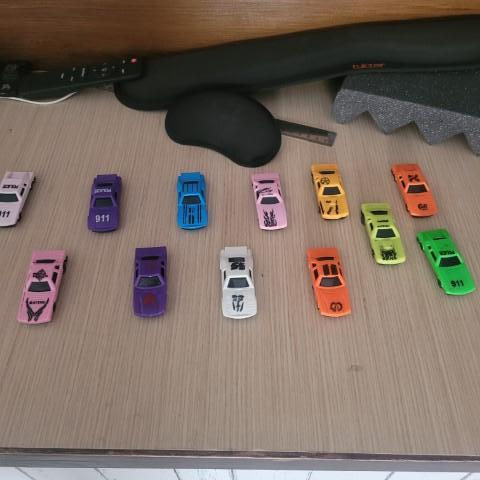car: (412, 225, 476, 298), (16, 248, 67, 325), (307, 245, 353, 321), (128, 245, 172, 321), (360, 201, 408, 270), (219, 245, 261, 321), (246, 167, 293, 233), (171, 166, 216, 232), (309, 160, 351, 223), (390, 163, 438, 216), (89, 170, 126, 234)
